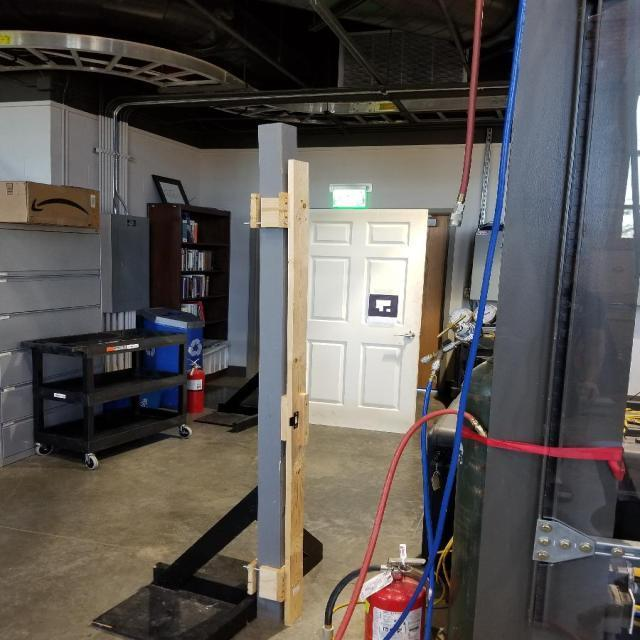door: (290, 206, 430, 438), (394, 330, 417, 339)
